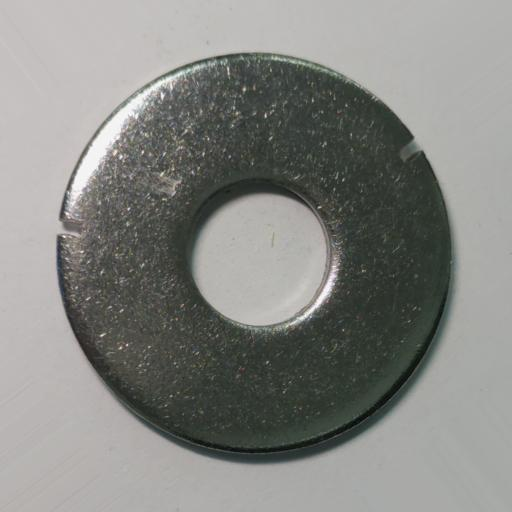burr: (397, 138, 426, 164), (56, 215, 84, 240)
